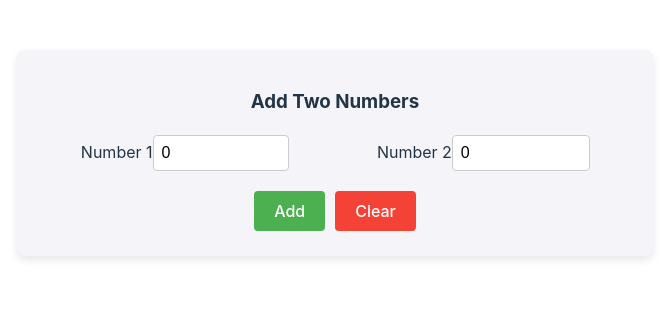
Test: AddNumbers Component › adds numbers correctly
Note: Set values for number inputs
Replace the text in the number field labelled "Number 1" with "5" at (221, 153), box [152,135,289,171]
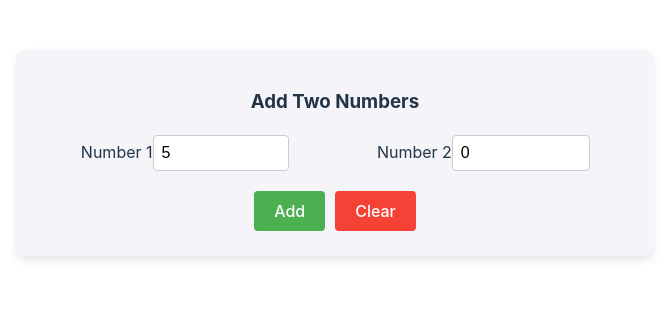
Replace the text in the number field labelled "Number 2" with "10" at (521, 153), box [452,135,590,171]
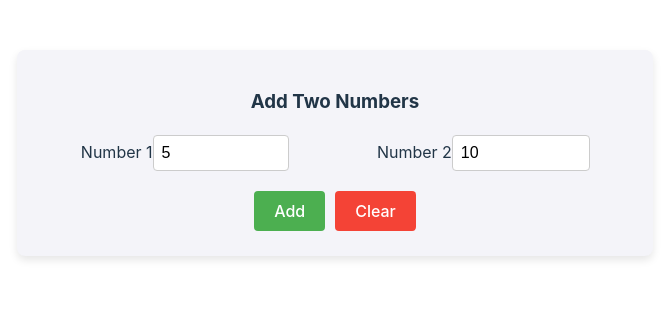
Note: Click the "Add" button
Click the button "Add".
click(290, 211)  # box [254,191,325,231]
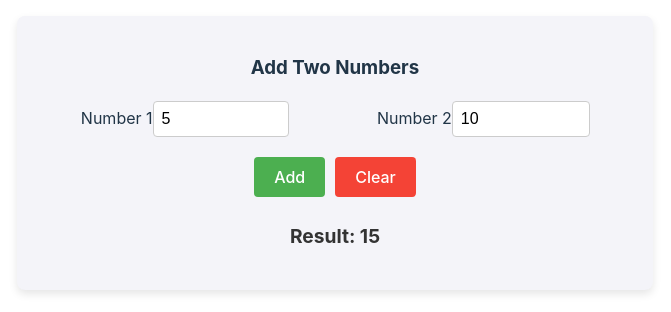
Result: the text "Result: 15" is shown at [290,224,380,248]
